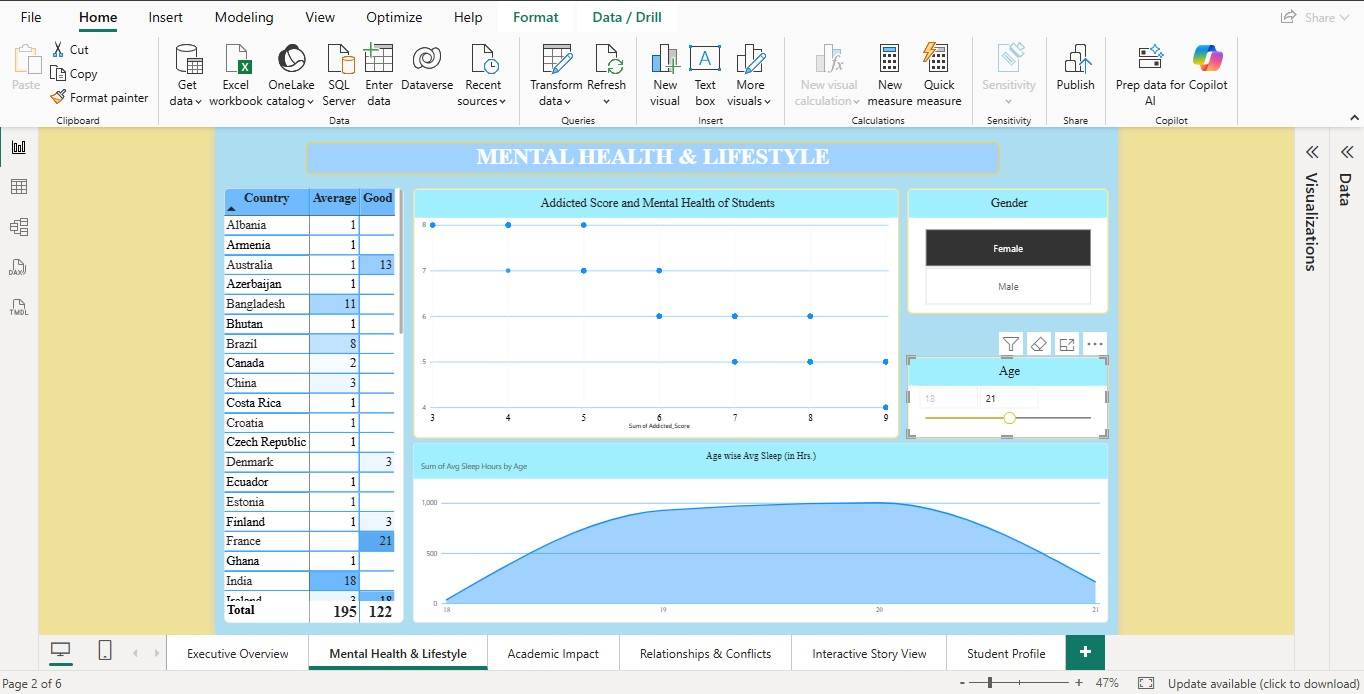

The dashboard page shown, as its layout file describes it:
{"tool":"powerbi","page":{"name":"Mental Health & Lifestyle","canvas":[1920,1080],"ordinal":1},"visuals":[{"type":"pivotTable","fields":{"Columns":["Student_Details.Health Band"],"Rows":["Student_Details.Country"],"Values":["CountNonNull(Platform_Details.Student_ID)"]},"box":[19.8,128.9,381.9,924.9],"z":0},{"type":"scatterChart","title":"Addicted Score and Mental Health  of Students","fields":{"Category":["Platform_Details.Student_ID"],"X":["Sum(Student_Details.Addicted_Score)"],"Y":["Sum(Student_Details.Mental_Health_Score)"]},"box":[421.5,128.9,1034,533.1],"z":1000},{"type":"lineChart","title":"Age wise Avg Sleep (in Hrs.)","fields":{"Category":["Student_Details.Age"],"Y":["Sum(Student_Details.Avg Sleep Hours)"]},"box":[421.5,672,1477.8,381.9],"z":2000},{"type":"slicer","title":"Gender","fields":{"Values":["Student_Details.Gender"]},"box":[1470.4,128.9,429,267.8],"z":3000},{"type":"textbox","box":[193.4,32.2,1475.3,69.4],"z":4000},{"type":"slicer","title":"Age","fields":{"Values":["Student_Details.Age"]},"box":[1470.4,486,429,176],"z":5000}]}

Visuals, with their boxes on the page's 1920x1080 design canvas (x1, y1, x2, y2). These are canvas units, not pixel positions in the 1364x694 screenshot, which may show the page scaled, cropped or inside an application window:
pivotTable - Student_Details.Health Band x Student_Details.Country: [20,129,402,1054]
"Addicted Score and Mental Health  of Students" scatterChart: [422,129,1456,662]
"Age wise Avg Sleep (in Hrs.)" lineChart: [422,672,1899,1054]
"Gender" slicer: [1470,129,1899,397]
textbox: [193,32,1669,102]
"Age" slicer: [1470,486,1899,662]
